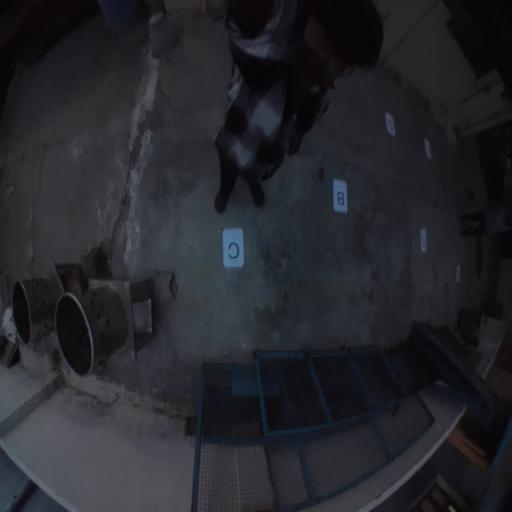A: (423, 139, 432, 160)
B: (333, 178, 348, 213)
C: (222, 229, 244, 268)
D: (420, 229, 427, 253)
E: (385, 111, 396, 136)
